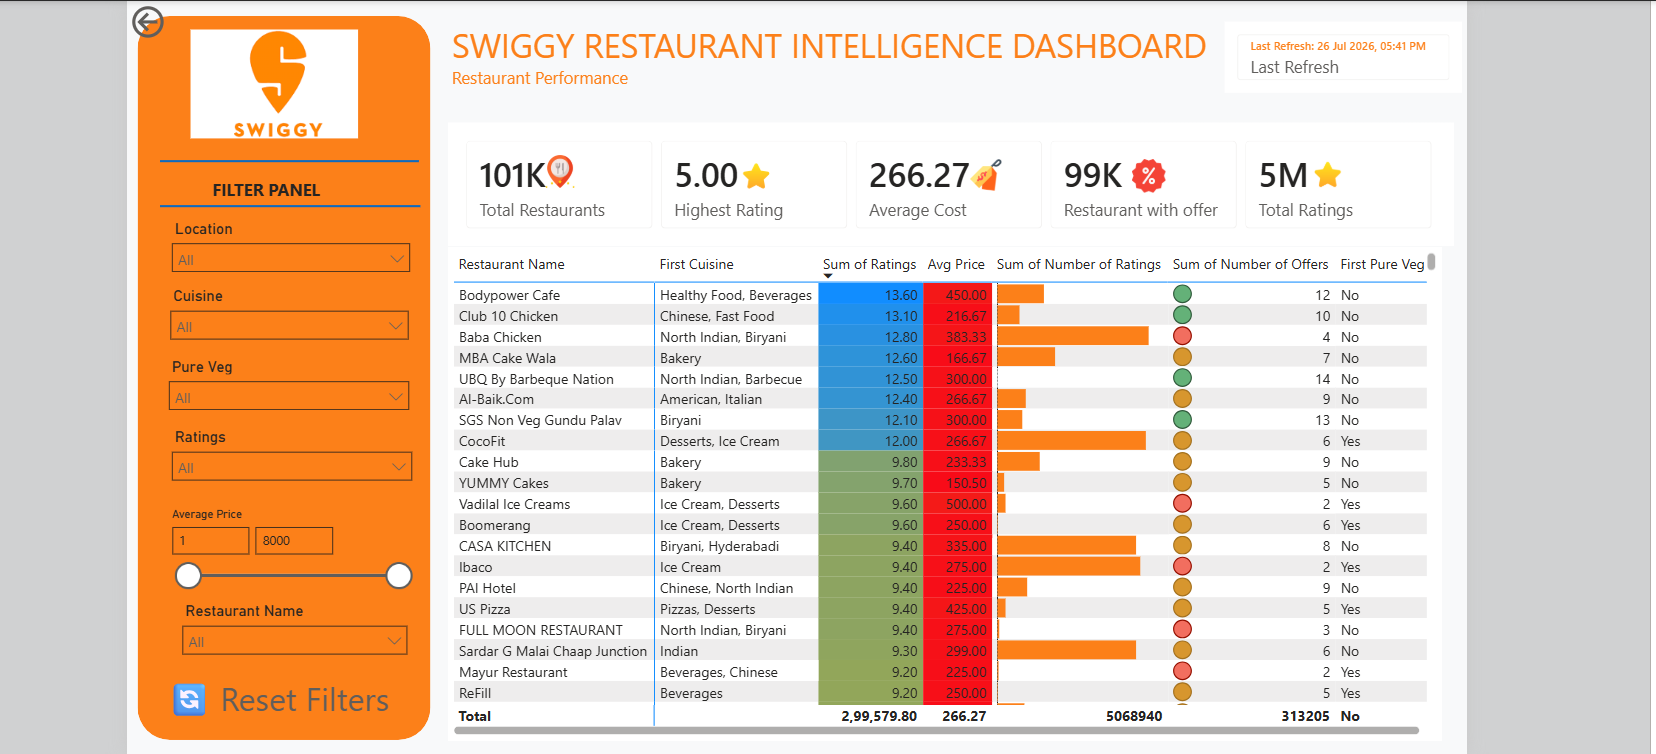

What the dashboard file says about the page in this screenshot:
{"tool":"powerbi","page":{"name":"Restaurant Performance","canvas":[1280,720],"ordinal":1},"visuals":[{"type":"shape","box":[9.8,14.6,279.8,691.3],"z":0},{"type":"image","box":[0,27.7,281.4,104.1],"z":1000},{"type":"textbox","box":[305.8,14.6,762.8,100.8],"z":2000},{"type":"shape","box":[30.9,131.8,247.2,42.3],"z":3000},{"type":"textbox","box":[43.9,162.7,177.3,45.5],"z":4000},{"type":"shape","box":[30.9,174,248.9,42.3],"z":5000},{"type":"slicer","fields":{"Values":["swiggy.Location"]},"box":[33,202.9,247.4,62.7],"z":6000},{"type":"slicer","fields":{"Values":["swiggy.Cuisine"]},"box":[31.3,267.2,247.4,61],"z":7000},{"type":"slicer","fields":{"Values":["swiggy.Pure Veg"]},"box":[29.7,334.8,249.1,57.7],"z":8000},{"type":"slicer","fields":{"Values":["swiggy.Rating"]},"box":[33,402.5,249.1,62.7],"z":9000},{"type":"slicer","fields":{"Values":["swiggy.Average Price"]},"box":[29.7,478.4,250.7,89.1],"z":10000},{"type":"actionButton","box":[8.2,640,272.2,46.2],"z":11000},{"type":"cardVisual","fields":{"Data":["swiggy.Last Refresh"]},"box":[1042.4,13.6,237.9,78.8],"z":12000},{"type":"actionButton","box":[0,0,100,40],"z":13000},{"type":"cardVisual","fields":{"Data":["swiggy.Total Restaurants","swiggy.Highest Rating","swiggy.Average Cost","swiggy.Restaurant with offer","swiggy.Total Ratings"]},"box":[306.1,116.7,960.6,118.2],"z":14000},{"type":"image","box":[398.5,131.8,30.9,61.8],"z":15000},{"type":"image","box":[586.4,136.4,30.3,62.1],"z":16000},{"type":"image","box":[804.5,142.4,30.3,48.5],"z":17000},{"type":"image","box":[959.1,139.4,31.8,56.1],"z":18000},{"type":"image","box":[1131.8,134.8,30.3,62.1],"z":19000},{"type":"pivotTable","fields":{"Rows":["swiggy.Restaurant Name"],"Values":["Min(swiggy.Cuisine)","Sum(swiggy.Ratings)","swiggy.Avg Price","Sum(swiggy.Number of Ratings)","Sum(swiggy.Number of Offers)","Min(swiggy.Pure Veg)"]},"box":[306.1,234.8,948.5,471.2],"z":20000},{"type":"slicer","fields":{"Values":["swiggy.Restaurant Name"]},"box":[42.4,568.2,234.8,63.6],"z":21000}]}

Visuals, with their boxes on the page's 1280x720 design canvas (x1, y1, x2, y2). These are canvas units, not pixel positions in the 1656x754 screenshot, which may show the page scaled, cropped or inside an application window:
shape: (x1=10, y1=15, x2=290, y2=706)
image: (x1=0, y1=28, x2=281, y2=132)
textbox: (x1=306, y1=15, x2=1069, y2=115)
shape: (x1=31, y1=132, x2=278, y2=174)
textbox: (x1=44, y1=163, x2=221, y2=208)
shape: (x1=31, y1=174, x2=280, y2=216)
slicer - swiggy.Location: (x1=33, y1=203, x2=280, y2=266)
slicer - swiggy.Cuisine: (x1=31, y1=267, x2=279, y2=328)
slicer - swiggy.Pure Veg: (x1=30, y1=335, x2=279, y2=392)
slicer - swiggy.Rating: (x1=33, y1=402, x2=282, y2=465)
slicer - swiggy.Average Price: (x1=30, y1=478, x2=280, y2=568)
actionButton: (x1=8, y1=640, x2=280, y2=686)
cardVisual - swiggy.Last Refresh: (x1=1042, y1=14, x2=1280, y2=92)
actionButton: (x1=0, y1=0, x2=100, y2=40)
cardVisual - swiggy.Total Restaurants x swiggy.Highest Rating: (x1=306, y1=117, x2=1267, y2=235)
image: (x1=398, y1=132, x2=429, y2=194)
image: (x1=586, y1=136, x2=617, y2=198)
image: (x1=804, y1=142, x2=835, y2=191)
image: (x1=959, y1=139, x2=991, y2=196)
image: (x1=1132, y1=135, x2=1162, y2=197)
pivotTable - swiggy.Restaurant Name x Min(swiggy.Cuisine): (x1=306, y1=235, x2=1255, y2=706)
slicer - swiggy.Restaurant Name: (x1=42, y1=568, x2=277, y2=632)
